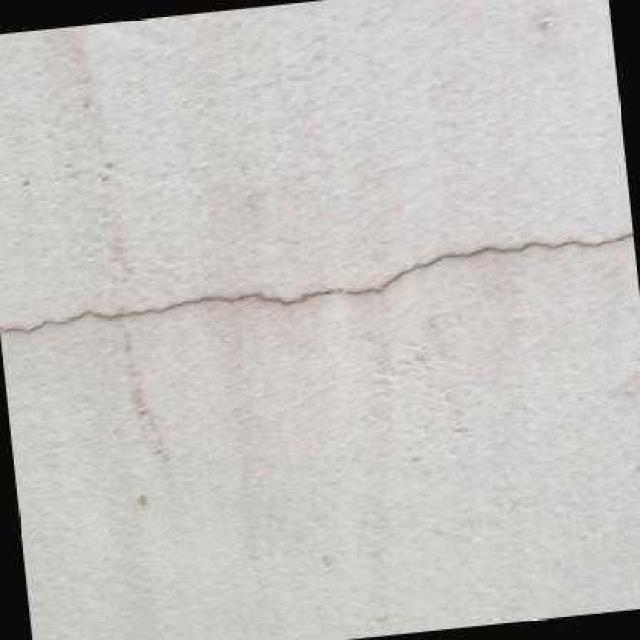D00: (0, 232, 633, 330)
